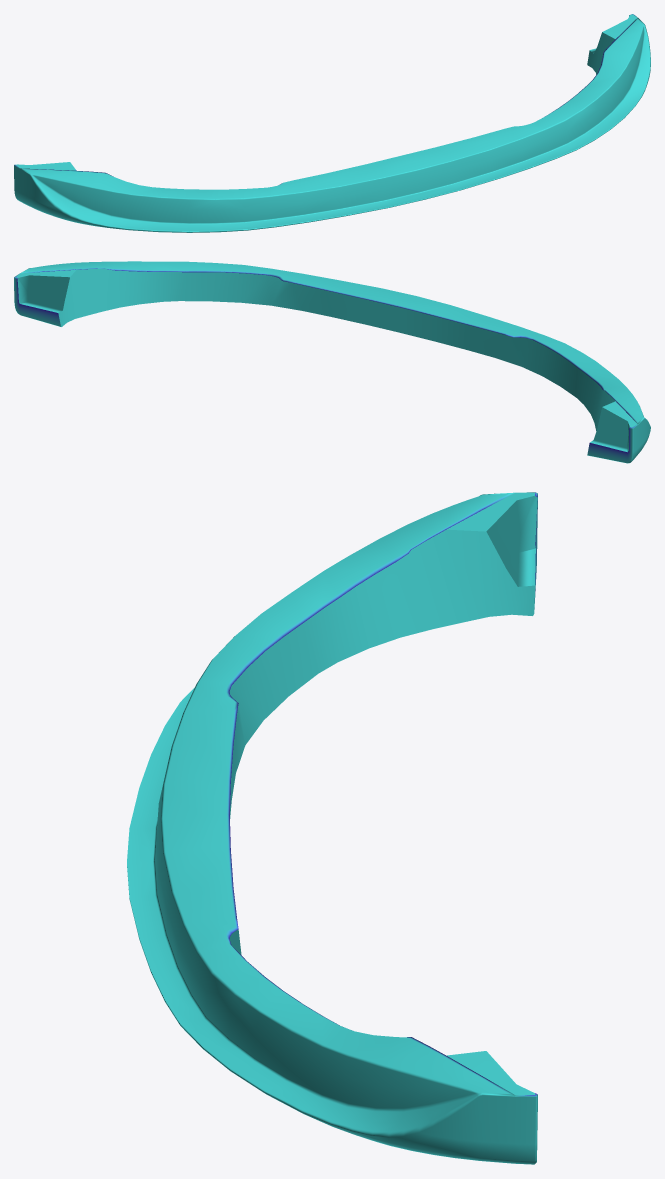
Rendered from Car_Mini_CountrymanJCW_2017_Splitter_SetD_AltF.fbx.
The picture shows the model from 3 angles, top to bottom: view 1: azimuth 30°, elevation 25°; view 2: azimuth 150°, elevation 25°; view 3: azimuth 270°, elevation 25°; orthographic projection. The views are drawn at different scales.
Visible parts, largest first — view 1: Splitter 6; view 2: Splitter 6; view 3: Splitter 6.
Boxes of the visible parts, box(x1,y1,x2,y2) form: Splitter 6: box(14, 14, 650, 232); Splitter 6: box(14, 261, 650, 463); Splitter 6: box(127, 492, 537, 1164).
Size of the model in its own units: 1.98 by 0.1245 by 0.5693.
